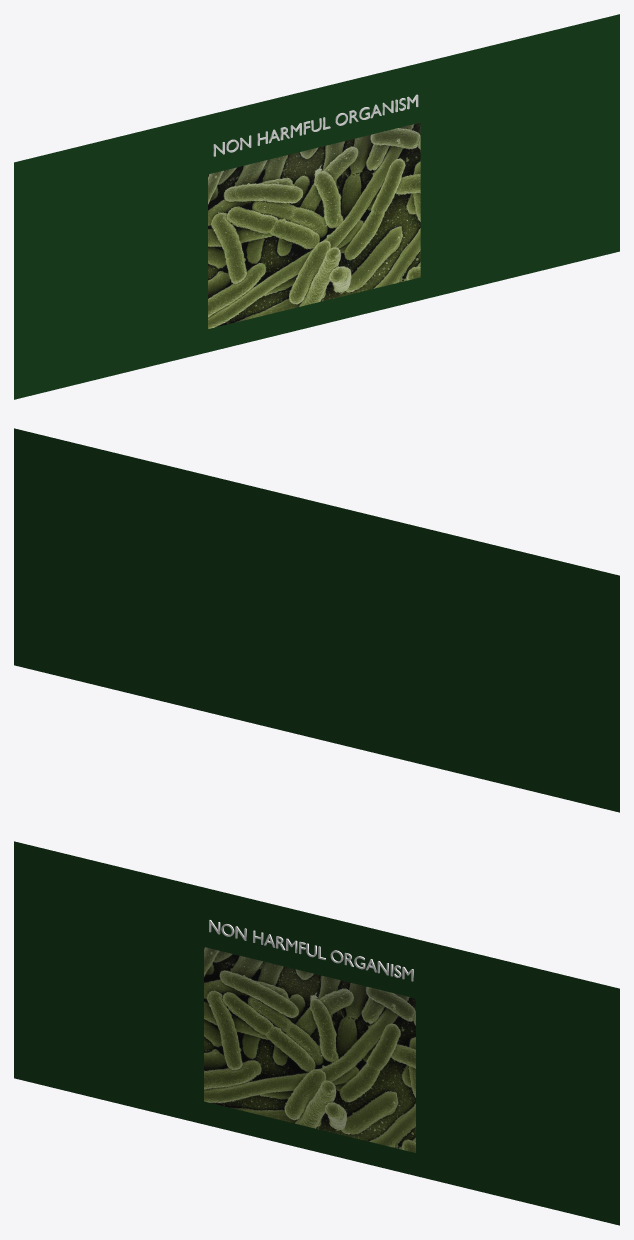
The model's file is decomposers.gltf.
3 views of the same model, one above another, from view 1: azimuth 30°, elevation 25°; view 2: azimuth 150°, elevation 25°; view 3: azimuth 330°, elevation 25° (orthographic).
Visible parts, largest first — view 1: Plane.013, Plane, Text.008; view 2: Plane.013; view 3: Plane.013, Plane, Text.008.
Part boxes in pixels (<box>): Plane.013: <box>14,14,619,399</box>; Plane: <box>208,122,420,328</box>; Text.008: <box>213,94,418,156</box>; Plane.013: <box>14,428,619,812</box>; Plane.013: <box>14,841,619,1225</box>; Plane: <box>204,947,415,1152</box>; Text.008: <box>209,920,413,981</box>.
Bounding box in the file's own units: 15.94 × 5.96 × 0.1403.
Materials: 3 (1 with a texture image).
